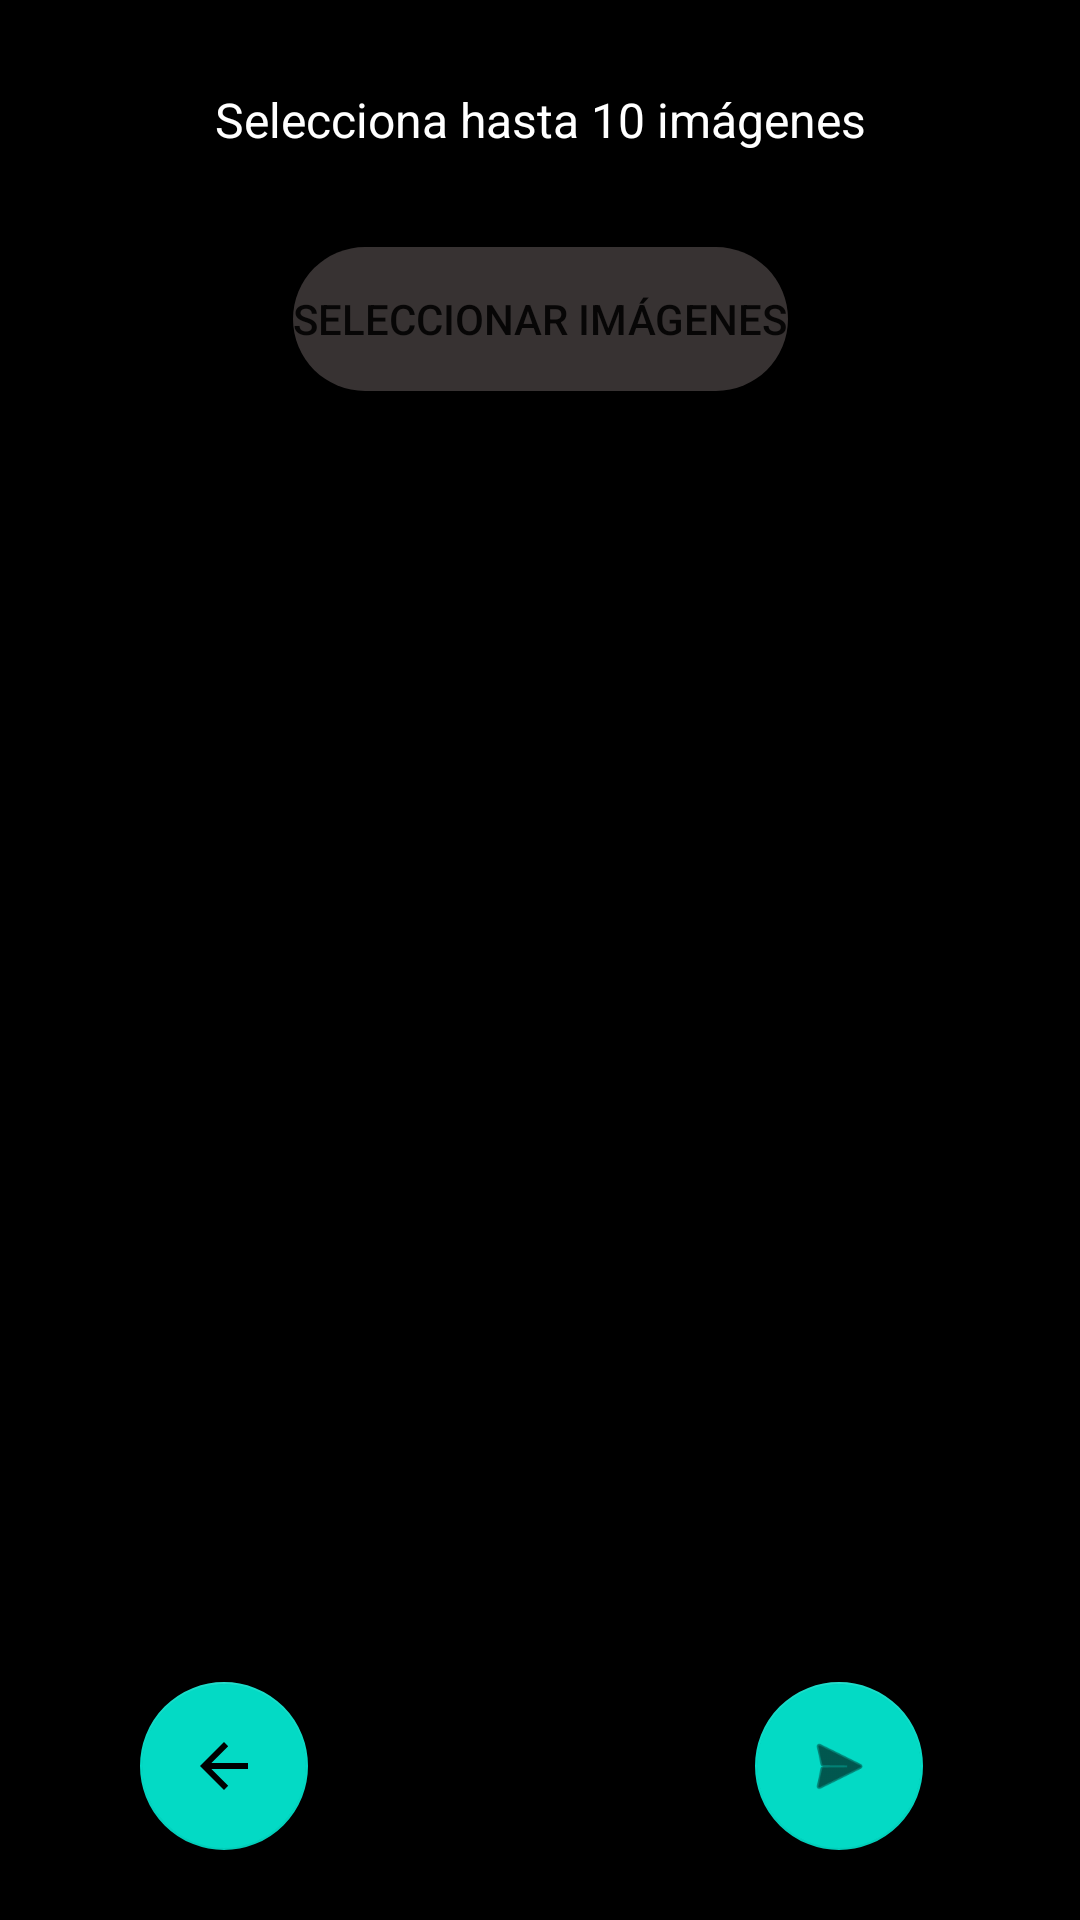

Named icons in this screenshot (1080*1920) and their bounding boxes, (x1, y1, x2, y2):
send: (755, 1682, 923, 1850)
